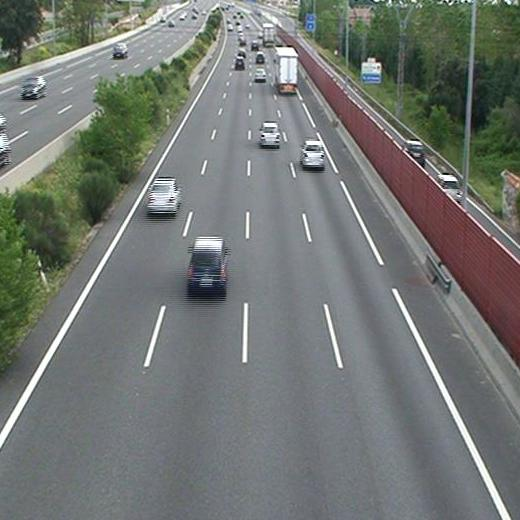car: (188, 238, 225, 288), (148, 179, 179, 212), (300, 140, 325, 166), (260, 123, 279, 145), (253, 68, 266, 80), (234, 58, 245, 67), (255, 53, 264, 62)
truck: (277, 48, 297, 92), (263, 22, 274, 46)
